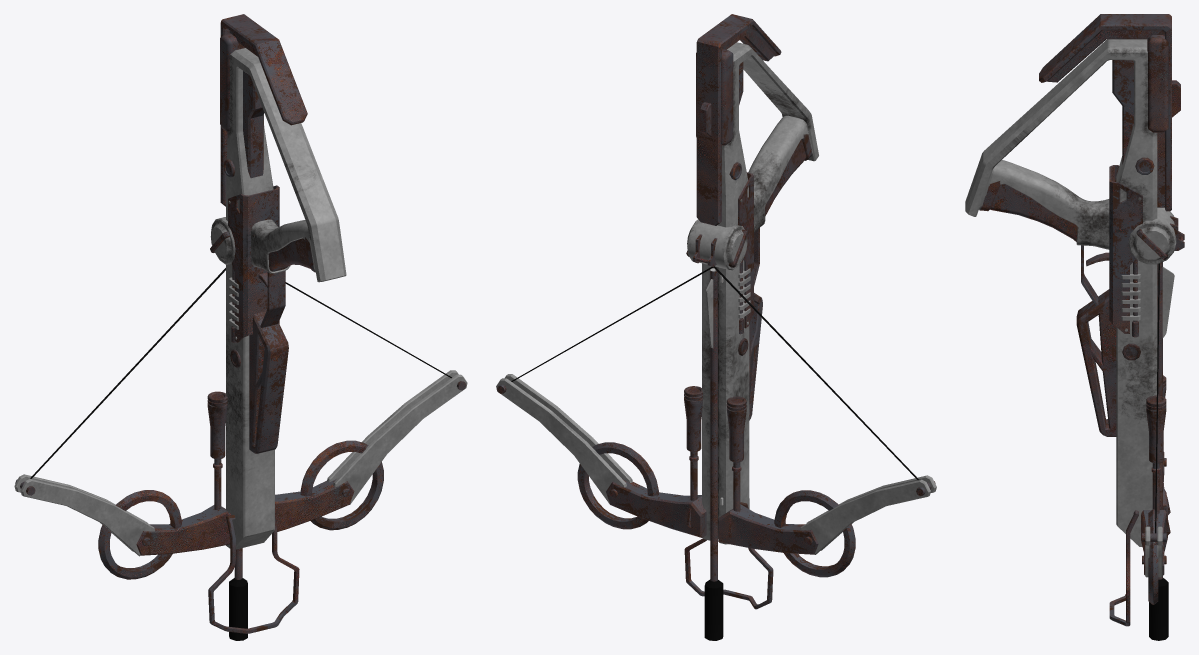
The model's file is Crossbow.fbx.
The picture shows the model from 3 angles, left to right: view 1: azimuth 30°, elevation 25°; view 2: azimuth 150°, elevation 25°; view 3: azimuth 270°, elevation 25°; orthographic projection. The views are drawn at different scales.
Visible parts, largest first — view 1: Scifi_crossbow_01_poly, Scifi_crossbow_arrow_01_poly; view 2: Scifi_crossbow_01_poly, Scifi_crossbow_arrow_01_poly; view 3: Scifi_crossbow_01_poly, Scifi_crossbow_arrow_01_poly.
Boxes of the visible parts, box(x1,y1,x2,y2) form: Scifi_crossbow_01_poly: box(14, 14, 467, 633); Scifi_crossbow_arrow_01_poly: box(229, 548, 247, 640); Scifi_crossbow_01_poly: box(496, 14, 936, 609); Scifi_crossbow_arrow_01_poly: box(704, 268, 723, 640); Scifi_crossbow_01_poly: box(965, 14, 1184, 626); Scifi_crossbow_arrow_01_poly: box(1149, 262, 1174, 640).
Bounding box in the file's own units: 0.000293 × 0.000125 × 0.000389.
